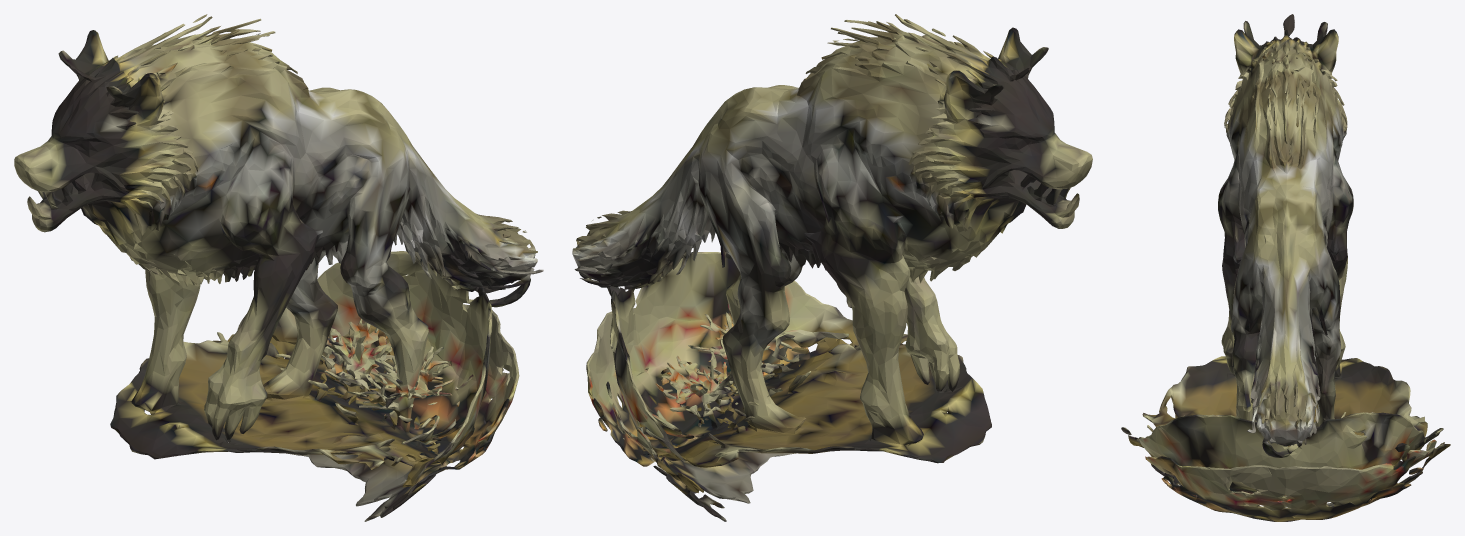
File: boar.glb
3 renders of one model, left to right at view 1: azimuth 30°, elevation 25°; view 2: azimuth 150°, elevation 25°; view 3: azimuth 270°, elevation 25°, orthographic. The views are drawn at different scales.
Parts seen in each view (by area): view 1: world; view 2: world; view 3: world.
Part boxes in pixels (x1,y1,x2,y2): world: (14, 14, 543, 521); world: (572, 14, 1092, 521); world: (1121, 14, 1450, 521).
Size of the model in its own units: 1.07 by 1 by 0.7393.
